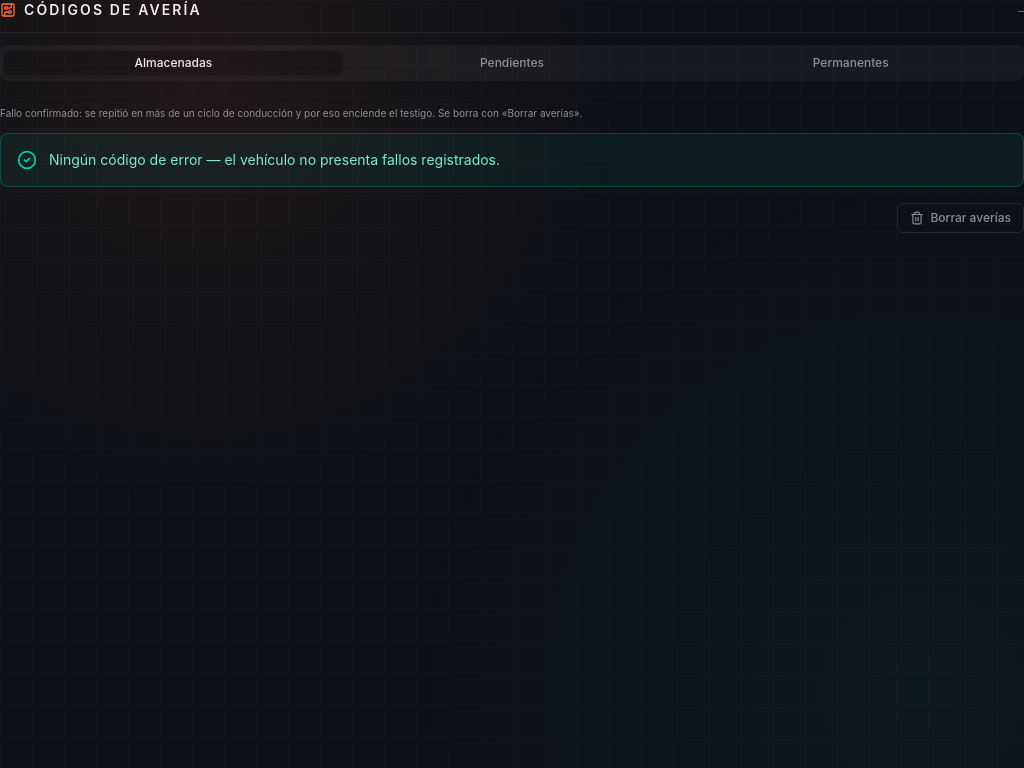
it: DtcPanel › should open the confirmation dialog when clicking 'Borrar averías'
This screenshot has width=1024, height=768.
Click the button "Borrar averías".
click(961, 218)  # box [898,203,1023,233]
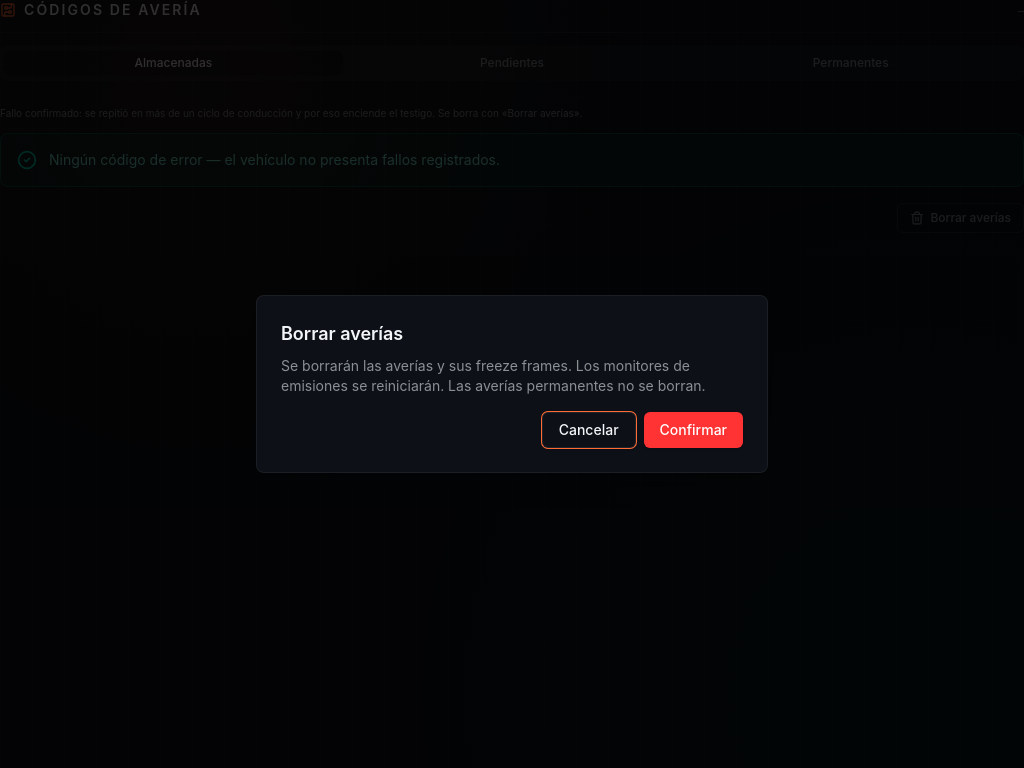
Check: the text "Se borrarán las averías y sus freeze frames" is shown, box [281,357,706,394]
